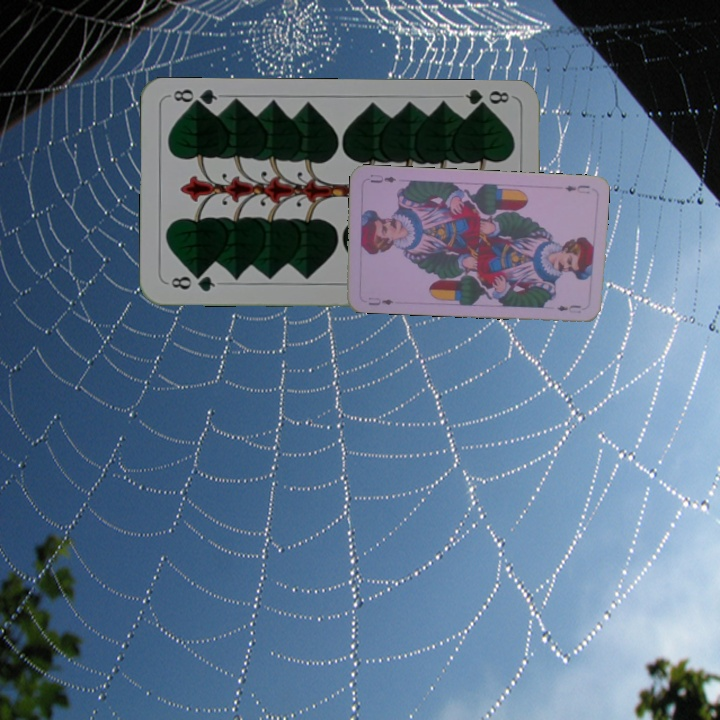EU: (364, 293, 396, 308), (561, 181, 592, 196)
G8: (461, 86, 511, 114), (167, 270, 218, 294)
